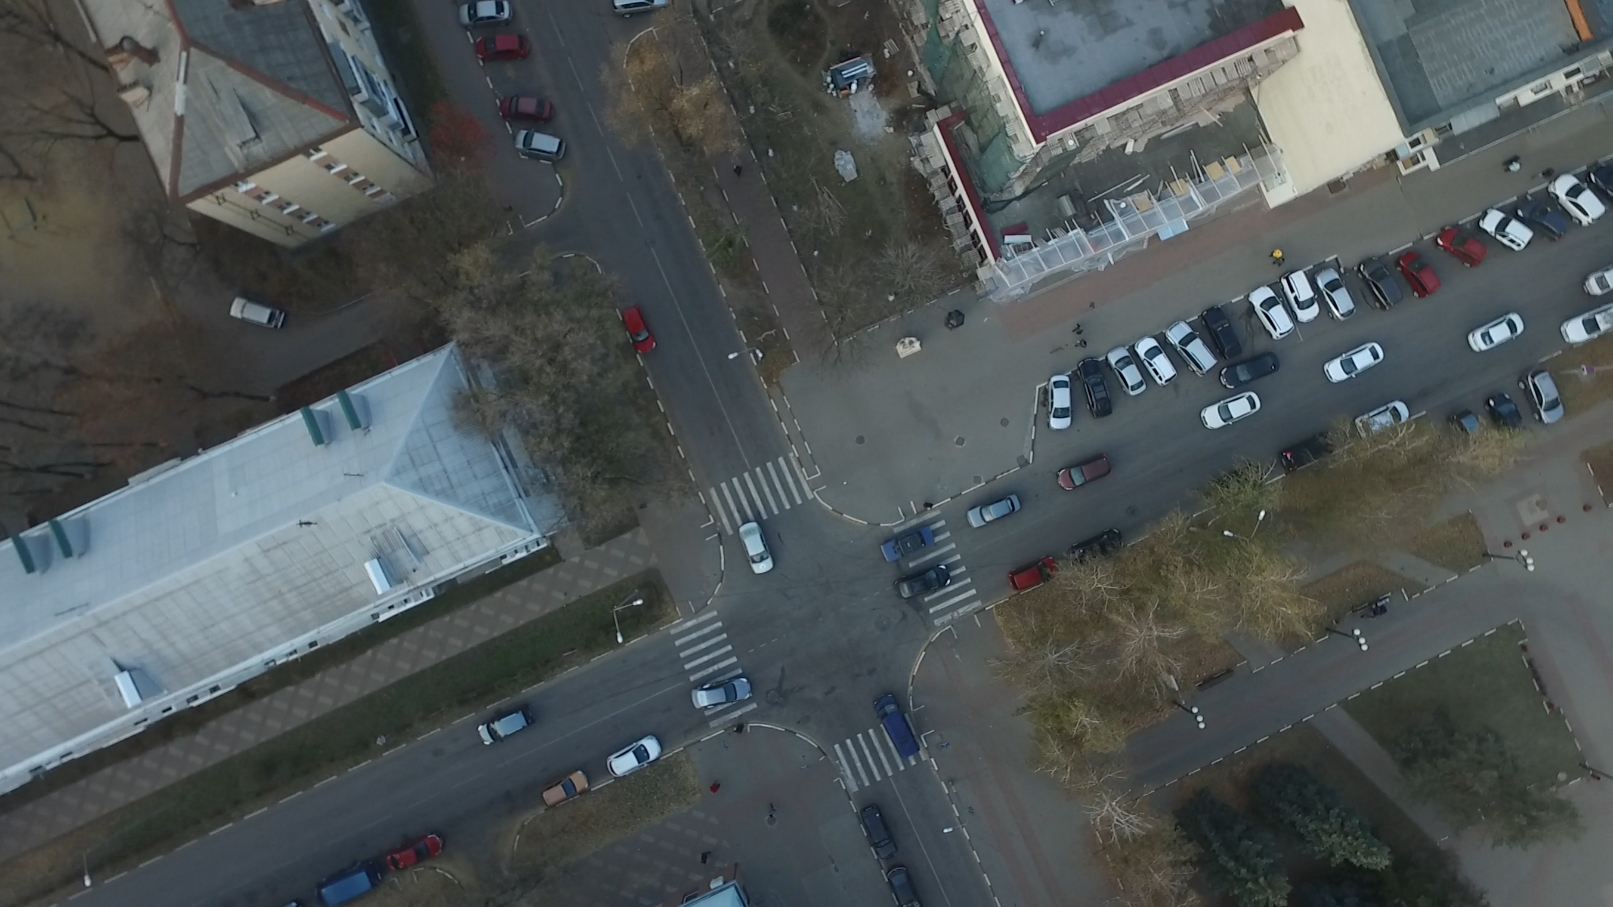car: (1547, 171, 1605, 227), (1276, 427, 1340, 477), (315, 859, 383, 904), (1164, 320, 1218, 377), (873, 694, 918, 757), (1479, 205, 1531, 259), (1323, 341, 1384, 385), (1520, 193, 1568, 249), (1200, 391, 1262, 434), (1218, 350, 1281, 392), (1437, 221, 1488, 274), (1249, 284, 1295, 340), (1359, 252, 1401, 315), (1354, 398, 1408, 444), (1558, 305, 1613, 349), (1076, 355, 1114, 419), (1520, 367, 1562, 424), (857, 801, 898, 859), (1064, 527, 1119, 570), (888, 563, 949, 601), (383, 829, 441, 870), (963, 489, 1023, 528), (736, 518, 775, 576), (1466, 315, 1523, 353), (1200, 303, 1241, 358), (687, 676, 751, 710), (1317, 267, 1356, 323), (607, 736, 661, 776), (1394, 249, 1439, 297), (1055, 453, 1110, 492), (879, 524, 931, 565), (1280, 266, 1317, 321), (477, 709, 536, 744), (621, 301, 658, 358), (1487, 392, 1525, 444), (1005, 552, 1054, 592), (1105, 346, 1145, 394), (1042, 371, 1078, 426), (232, 293, 287, 329), (515, 126, 569, 162), (1136, 334, 1173, 385), (476, 30, 528, 65), (499, 92, 557, 123), (540, 767, 586, 804), (1450, 406, 1486, 453), (888, 863, 925, 907), (1578, 265, 1613, 300), (459, 2, 515, 24)
